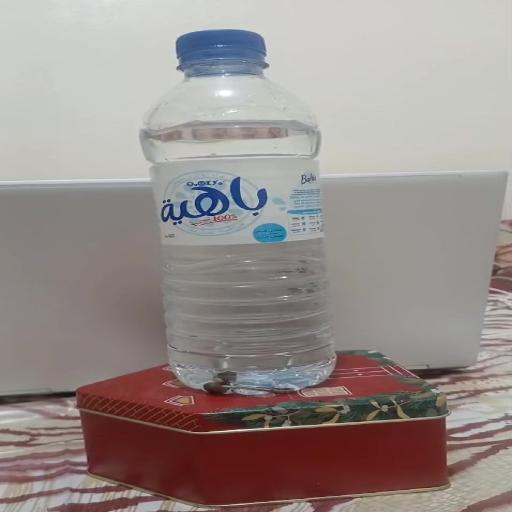bouteille conformite: (143, 28, 338, 394)
